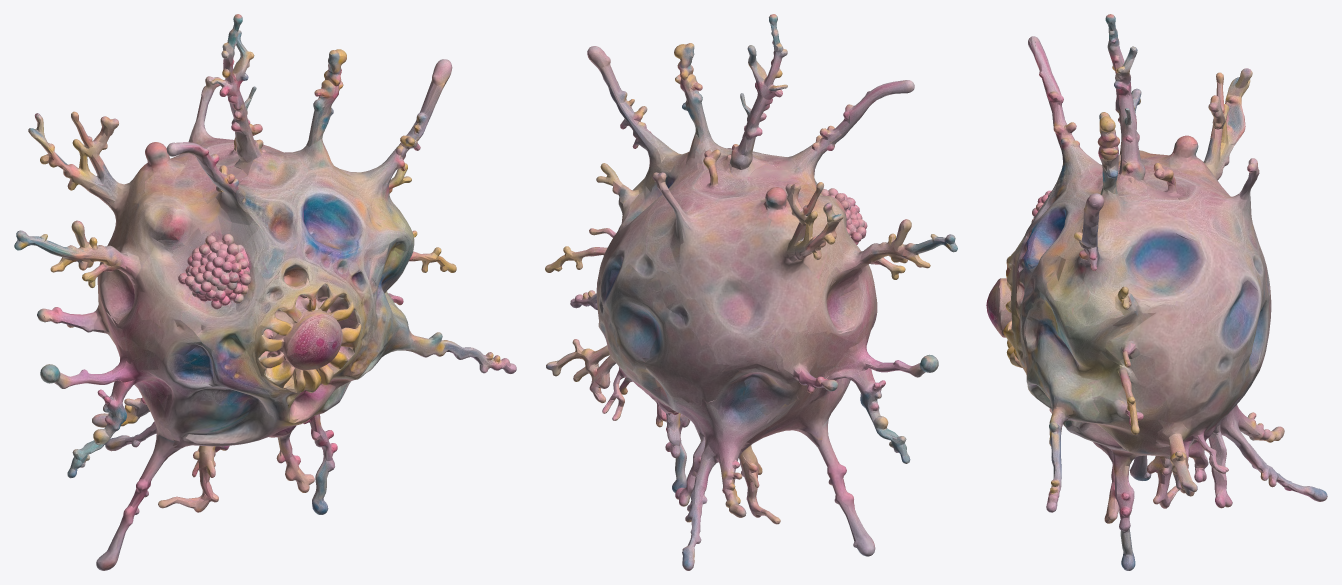
Rendered from spore-spin.glb.
3 views of the same model, side by side, from view 1: azimuth 30°, elevation 25°; view 2: azimuth 150°, elevation 25°; view 3: azimuth 270°, elevation 25° (orthographic). The views are drawn at different scales.
Parts seen in each view (by area): view 1: Mesh_0; view 2: Mesh_0; view 3: Mesh_0.
Boxes of the visible parts, left/top/right/bottom form: Mesh_0: left=14, top=14, right=516, bottom=570; Mesh_0: left=545, top=14, right=957, bottom=570; Mesh_0: left=986, top=14, right=1327, bottom=570.
Bounding box in the file's own units: 1.69 × 1.9 × 1.13.
Materials: 1 (1 with a texture image).
